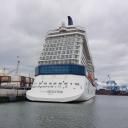cruises: (26, 16, 99, 106)
